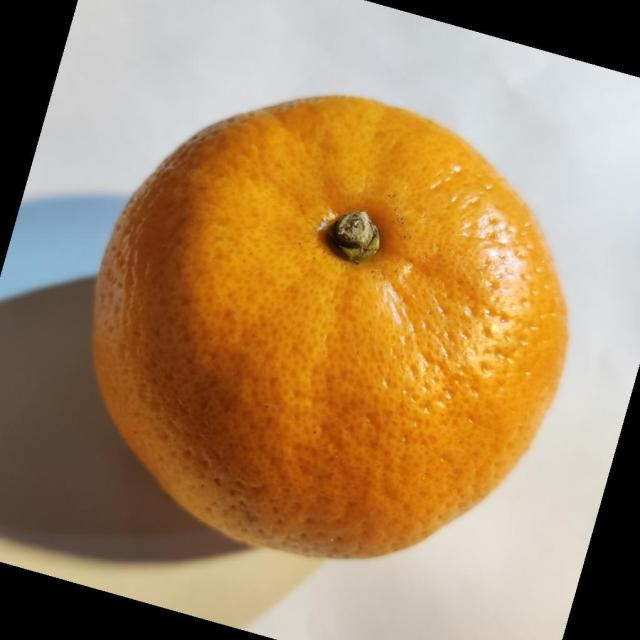agrume: (90, 93, 570, 560)
